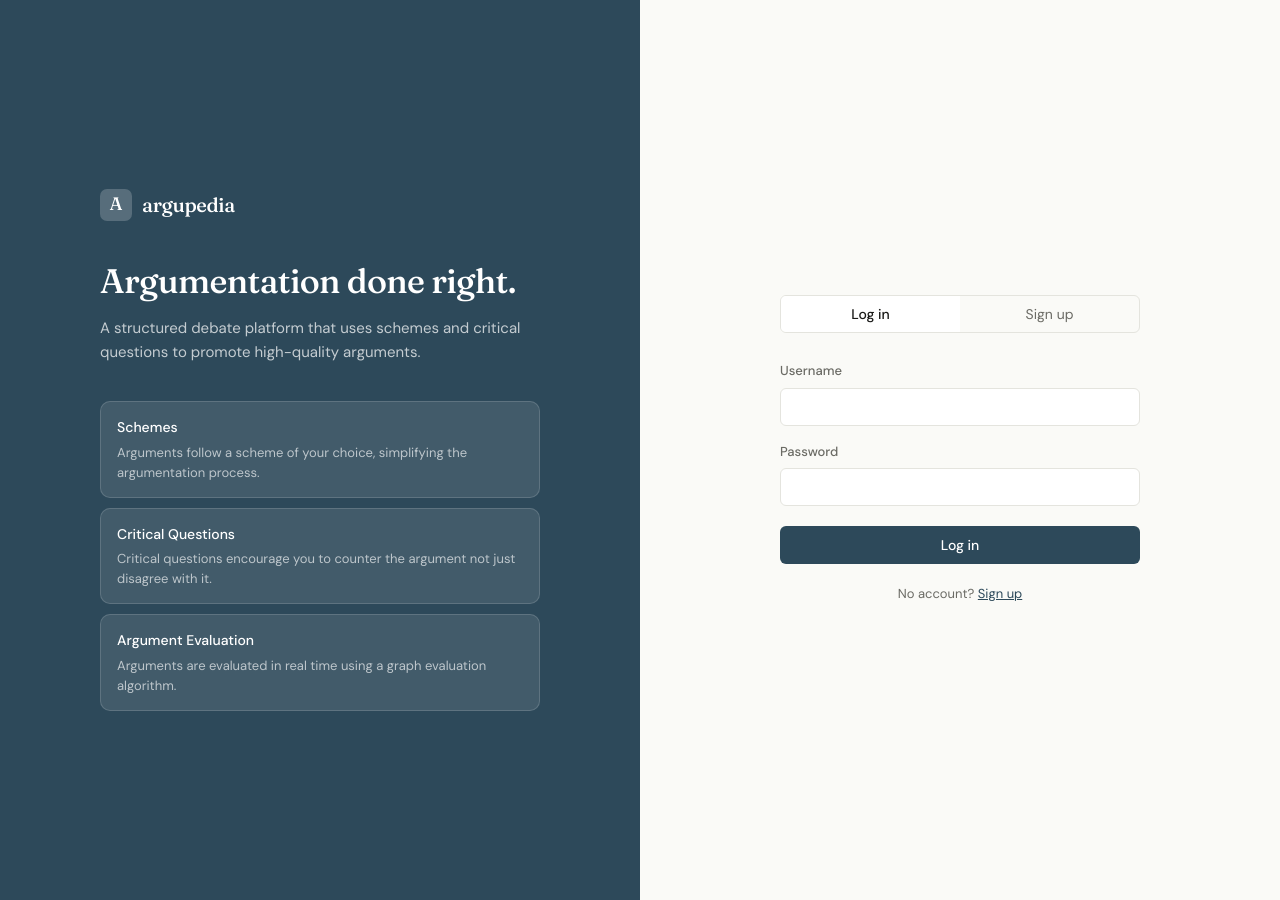
Test: LandingPage › switches to signup mode and shows extra fields
Click the 1st button "Sign up" at (1050,314), box 960,296 -> 1139,332
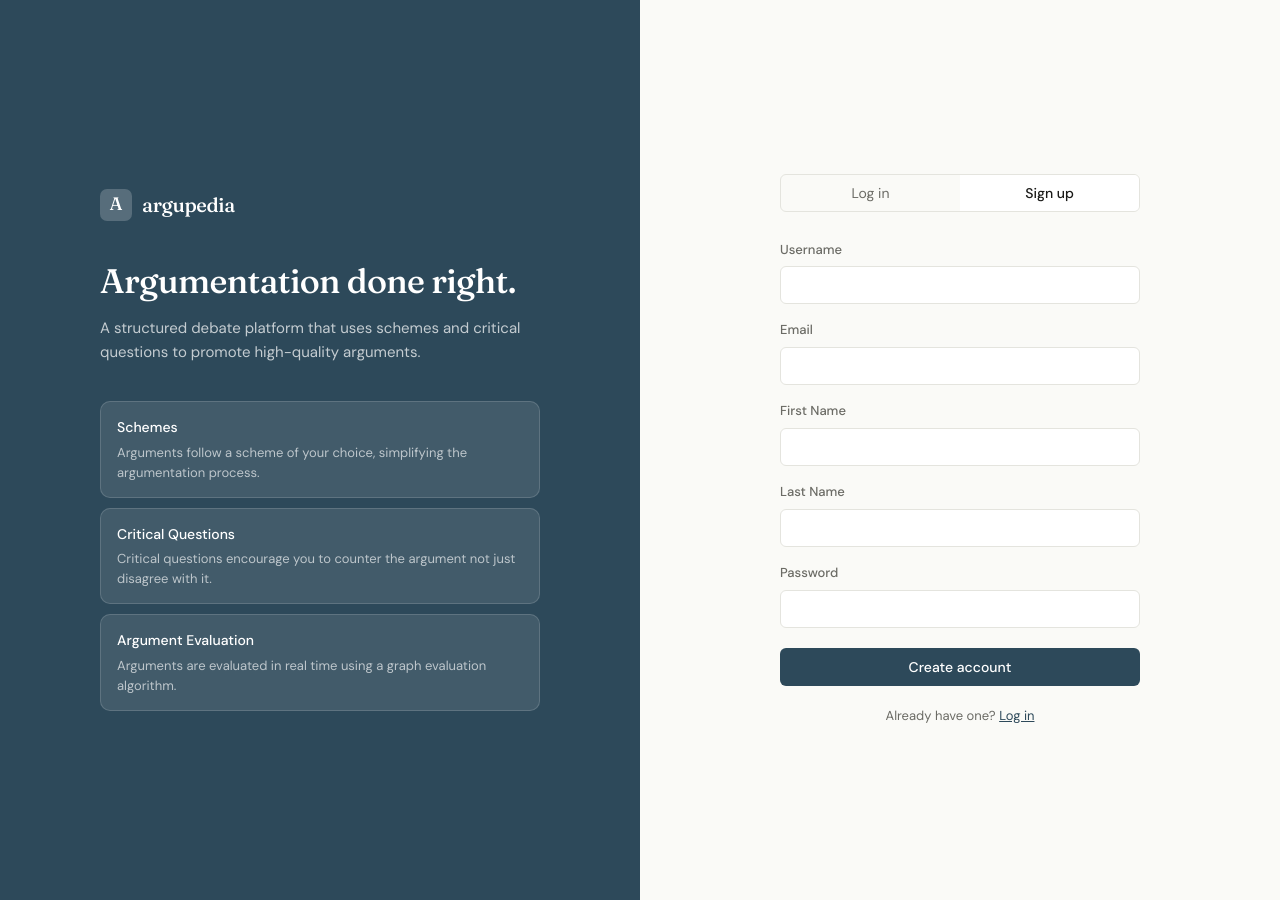
Expected: the field labelled "Email" is shown, 780,347 -> 1140,385
Expected: the field labelled "First Name" is shown, 780,428 -> 1140,466
Expected: the field labelled "Last Name" is shown, 780,509 -> 1140,547
